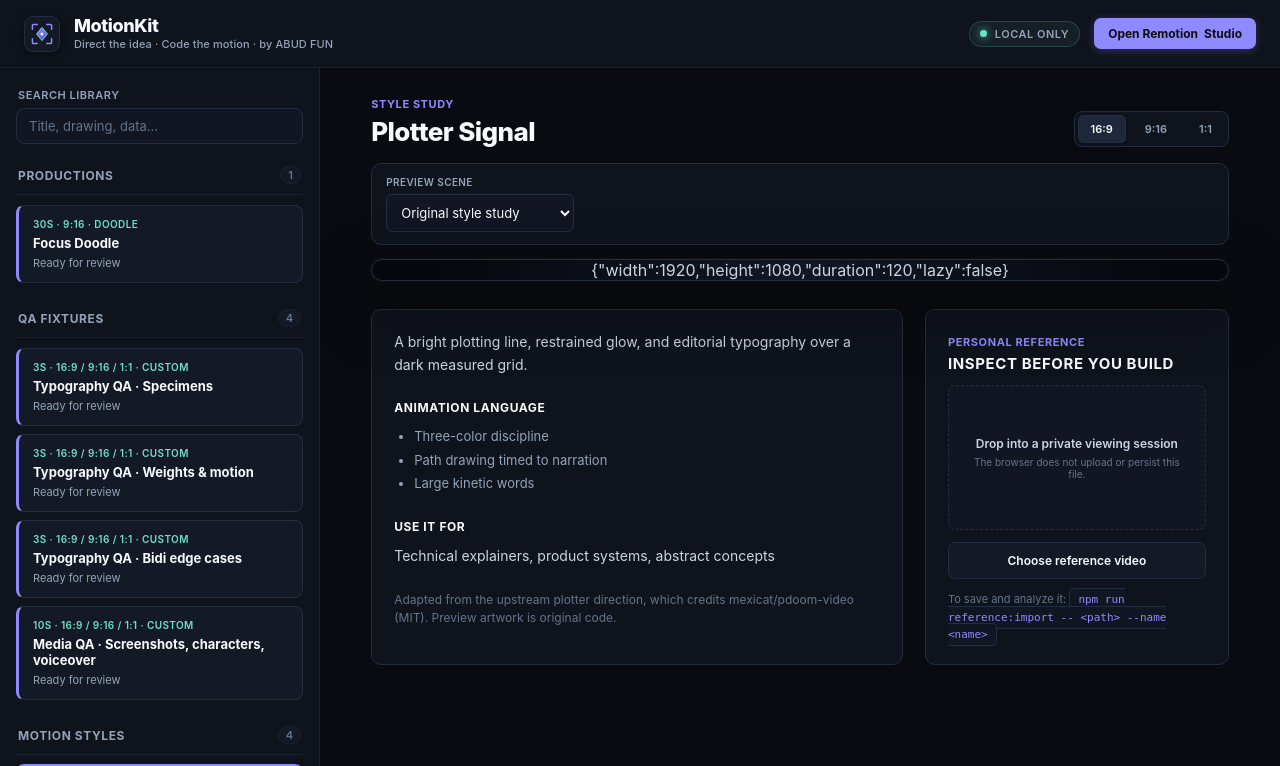
Test: local visual library › previews a production lazily at its registered format with its scenes
Click the button "30s · 9:16 · doodle Focus Doodle Ready for review": (86, 224) [16,205,303,283]
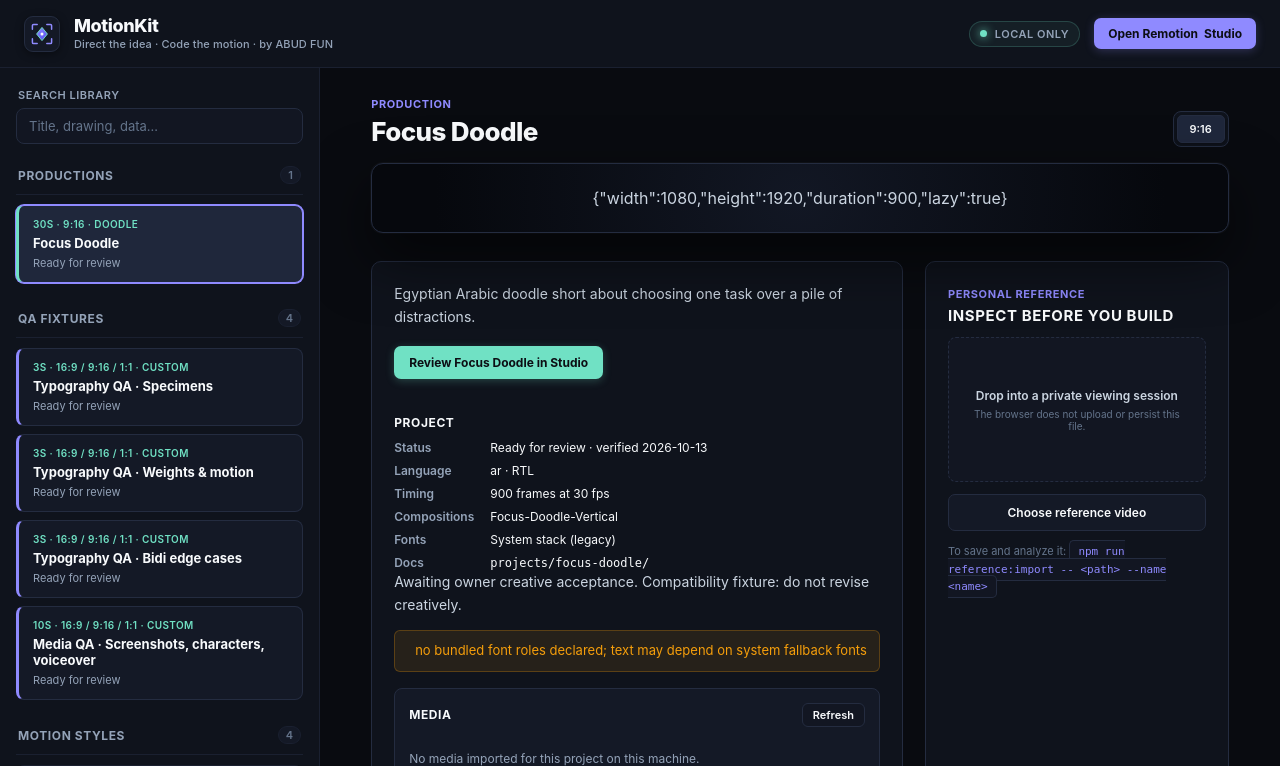
Expected: the text named "Animation preview" shows "\"width\":1080", [592,188,1008,208]
Expected: the text named "Animation preview" shows "\"height\":1920", [592,188,1008,208]
Expected: the text named "Animation preview" shows "\"duration\":900", [592,188,1008,208]
